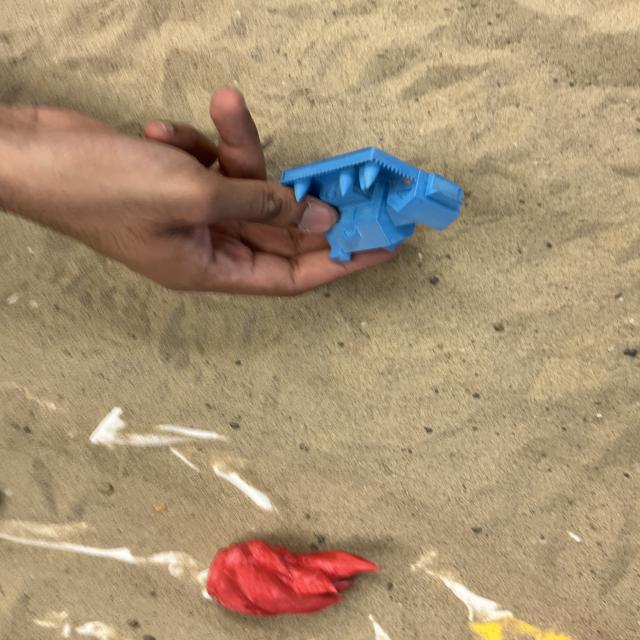fire: (205, 539, 380, 618)
house: (278, 145, 464, 263)
